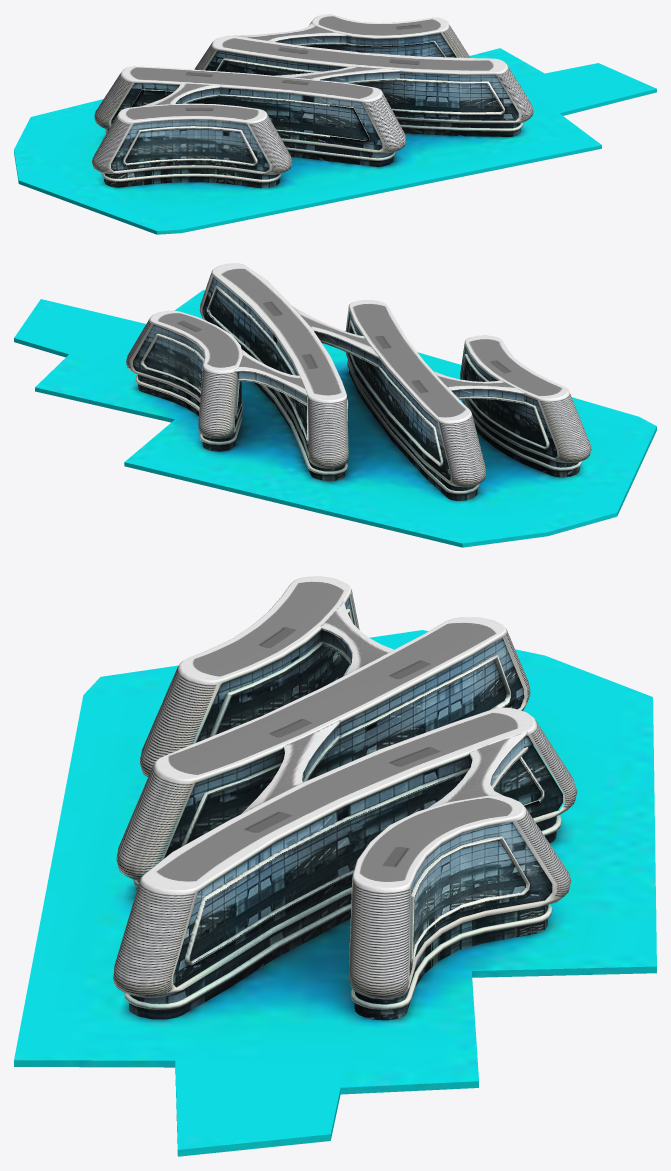
File: lksoho.gltf
3 renders of one model, top to bottom at view 1: azimuth 30°, elevation 25°; view 2: azimuth 150°, elevation 25°; view 3: azimuth 270°, elevation 25°, orthographic. The views are drawn at different scales.
Visible parts, largest first — view 1: polySurface18; view 2: polySurface18; view 3: polySurface18.
Part boxes in pixels (x1,y1,x2,y2): polySurface18: (14, 14, 656, 234); polySurface18: (14, 263, 656, 547); polySurface18: (14, 576, 656, 1156).
Size of the model in its own units: 22.62 by 2.6 by 11.82.
1 material, 1 textured.
